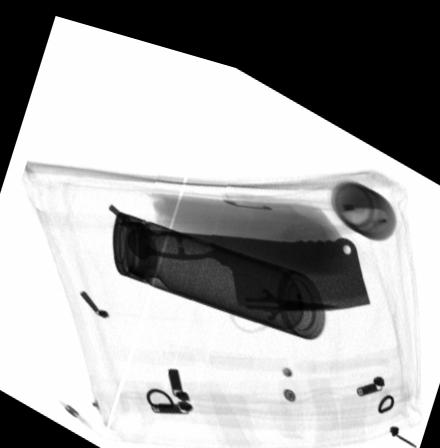Knife: (124, 216, 369, 295)
Scissors: (223, 261, 336, 320)
